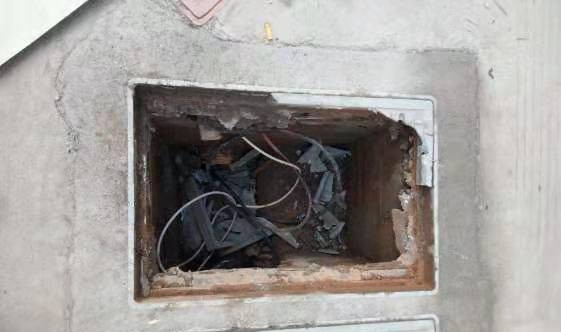lose: (127, 77, 441, 308)
